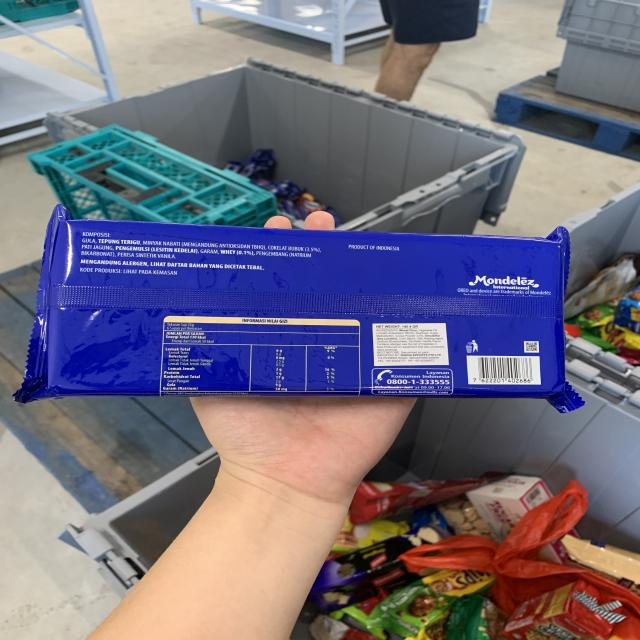object_name: (53, 227, 565, 398)
